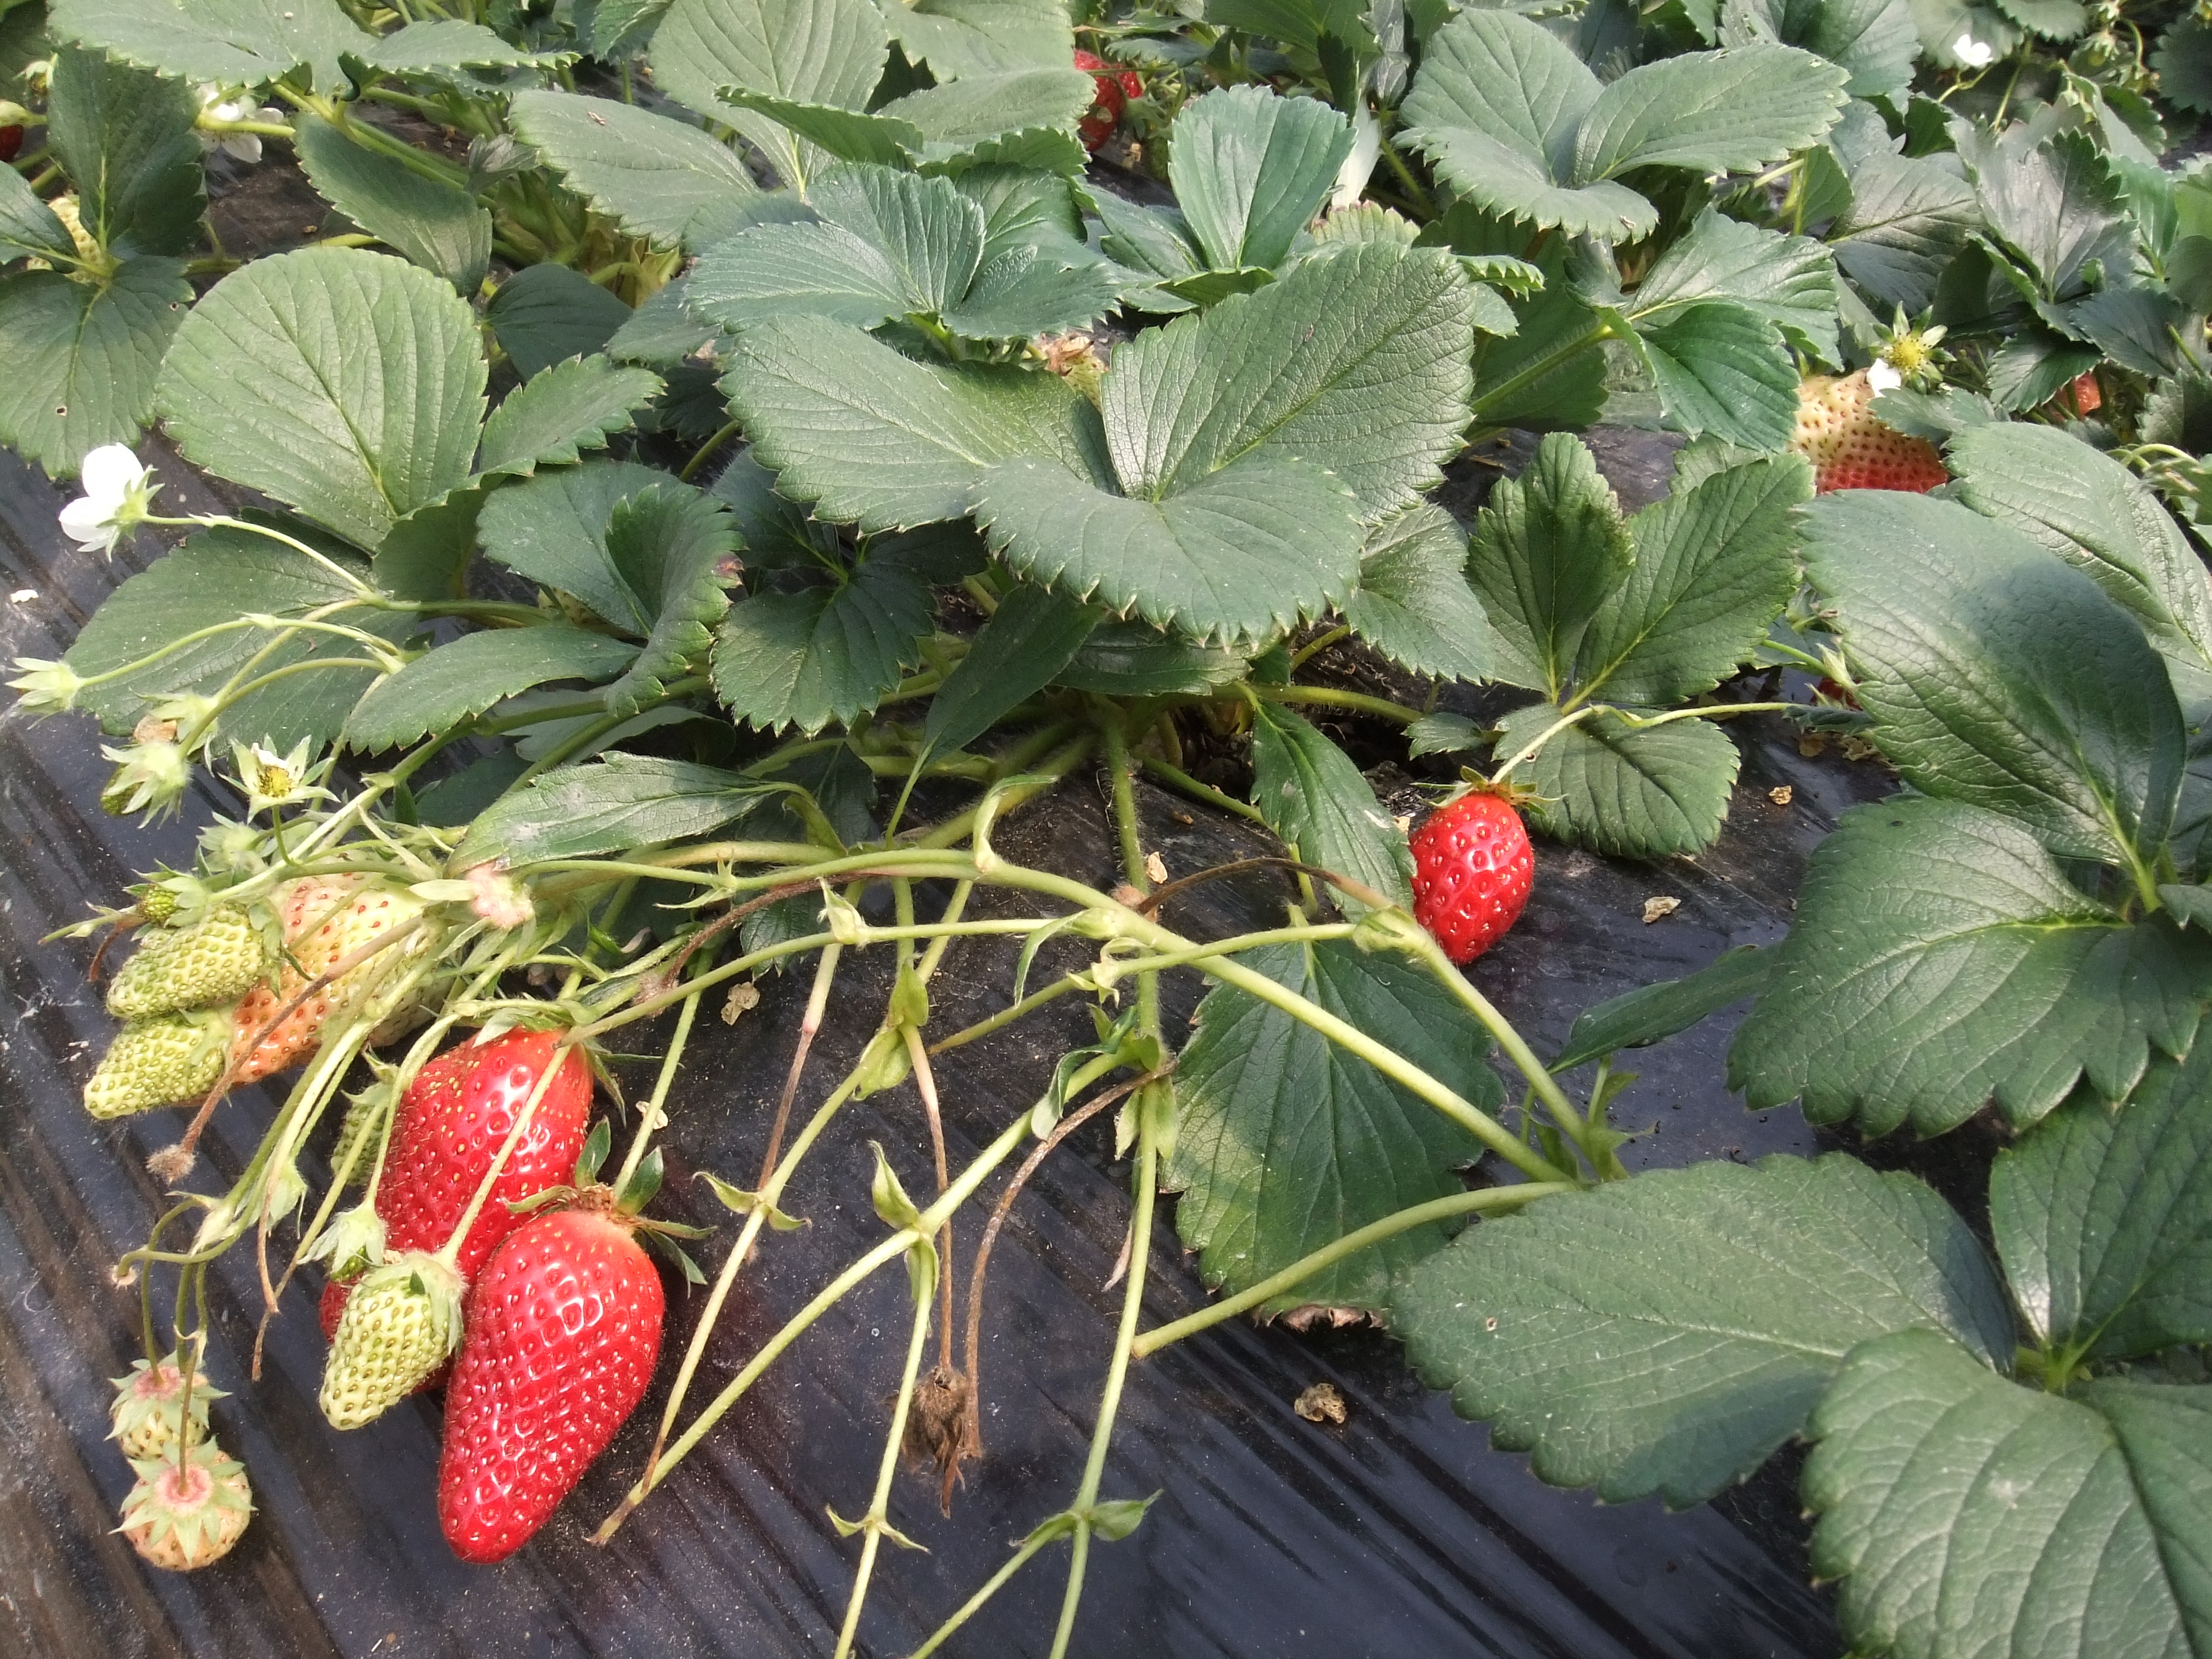StrawberryCone: (308, 992, 592, 1349), (1400, 769, 1555, 976)
StrawberryCylindrical: (418, 1194, 705, 1574)
StrawberryIrremovable: (207, 830, 428, 1093), (310, 1253, 467, 1446), (1778, 350, 1961, 509), (99, 899, 272, 1019), (111, 1452, 265, 1575), (71, 1014, 232, 1121), (89, 1354, 232, 1462)
StrawberryRemovable: (425, 1206, 700, 1568), (308, 997, 590, 1345), (1409, 777, 1547, 971)
